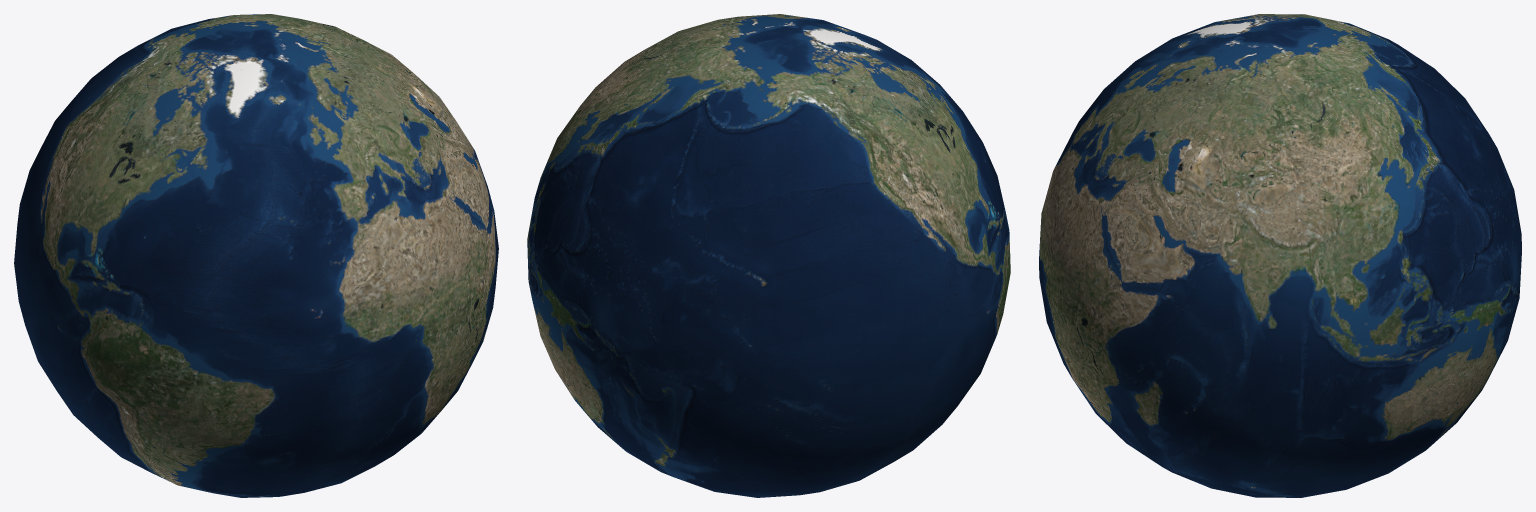
File: earth.obj
3 views of the same model, side by side, from view 1: azimuth 30°, elevation 25°; view 2: azimuth 150°, elevation 25°; view 3: azimuth 270°, elevation 25° (orthographic).
Parts seen in each view (by area): view 1: Atmosphere_Cube.001; view 2: Atmosphere_Cube.001; view 3: Atmosphere_Cube.001.
Part boxes in pixels (x1=…): Atmosphere_Cube.001: x1=14, y1=14, x2=498, y2=497; Atmosphere_Cube.001: x1=527, y1=14, x2=1010, y2=497; Atmosphere_Cube.001: x1=1039, y1=14, x2=1521, y2=497.
Size of the model in its own units: 6.39 by 6.41 by 6.39.
Materials: 5 (2 with a texture image).
